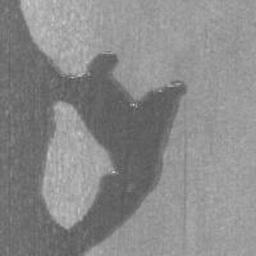Water spot: (0, 0, 191, 256)
